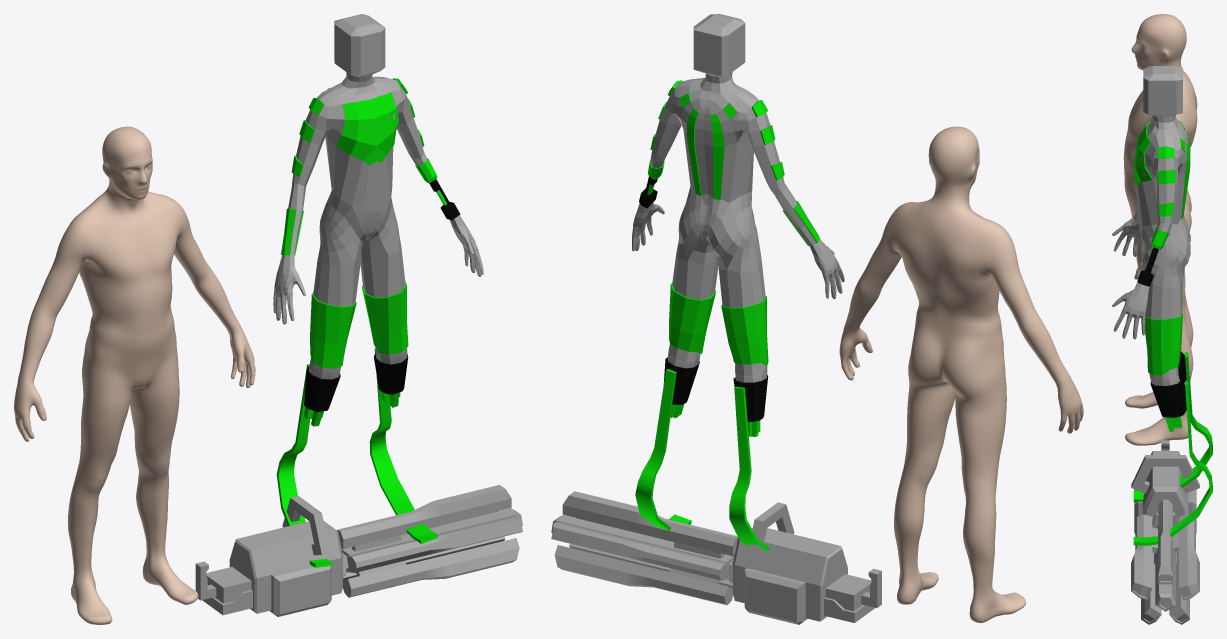
Rendered from Character_test 1.fbx.
The picture shows the model from 3 angles, left to right: view 1: azimuth 30°, elevation 25°; view 2: azimuth 150°, elevation 25°; view 3: azimuth 270°, elevation 25°; orthographic projection. The views are drawn at different scales.
Visible parts, largest first — view 1: HumanBody1:humanBody, Minigun, BodyMesh_GEO, GreavesDetail_GEO, Blade_GEO (×2), ChestDetail_GEO, SocketTop_GEO (×2); view 2: HumanBody1:humanBody, Minigun, BodyMesh_GEO, Blade_GEO (×2), GreavesDetail_GEO, SocketTop_GEO (×2), BackDetail_GEO; view 3: BodyMesh_GEO, Minigun, HumanBody1:humanBody, Blade_GEO (×2), GreavesDetail_GEO, SocketTop_GEO (×2), ChestDetail_GEO, Guard_GEO, BackDetail_GEO, ArmSocket_GEO, Middle, Top (+2 smaller).
Boxes of the visible parts, <box> form: HumanBody1:humanBody: <box>14,126,255,624</box>; Minigun: <box>195,485,522,616</box>; BodyMesh_GEO: <box>273,14,483,379</box>; GreavesDetail_GEO: <box>310,282,408,368</box>; Blade_GEO (×2): <box>276,349,437,567</box>; ChestDetail_GEO: <box>335,92,398,165</box>; SocketTop_GEO (×2): <box>304,353,408,411</box>; HumanBody1:humanBody: <box>839,126,1083,623</box>; Minigun: <box>551,491,881,624</box>; BodyMesh_GEO: <box>632,14,844,382</box>; Blade_GEO (×2): <box>635,369,769,550</box>; GreavesDetail_GEO: <box>669,283,768,365</box>; SocketTop_GEO (×2): <box>663,357,768,421</box>; BackDetail_GEO: <box>687,108,724,199</box>; BodyMesh_GEO: <box>1112,66,1190,385</box>; Minigun: <box>1131,440,1199,624</box>; HumanBody1:humanBody: <box>1123,14,1197,445</box>; Blade_GEO (×2): <box>1133,352,1212,545</box>; GreavesDetail_GEO: <box>1145,294,1182,375</box>; SocketTop_GEO (×2): <box>1150,351,1186,417</box>; ChestDetail_GEO: <box>1133,121,1152,185</box>; Guard_GEO: <box>1137,247,1158,286</box>; BackDetail_GEO: <box>1181,134,1190,218</box>; ArmSocket_GEO: <box>1151,228,1169,249</box>; Middle: <box>1157,170,1175,184</box>; Top: <box>1157,146,1174,158</box>.
Size of the model in its own units: 207 by 221 by 40.95.
